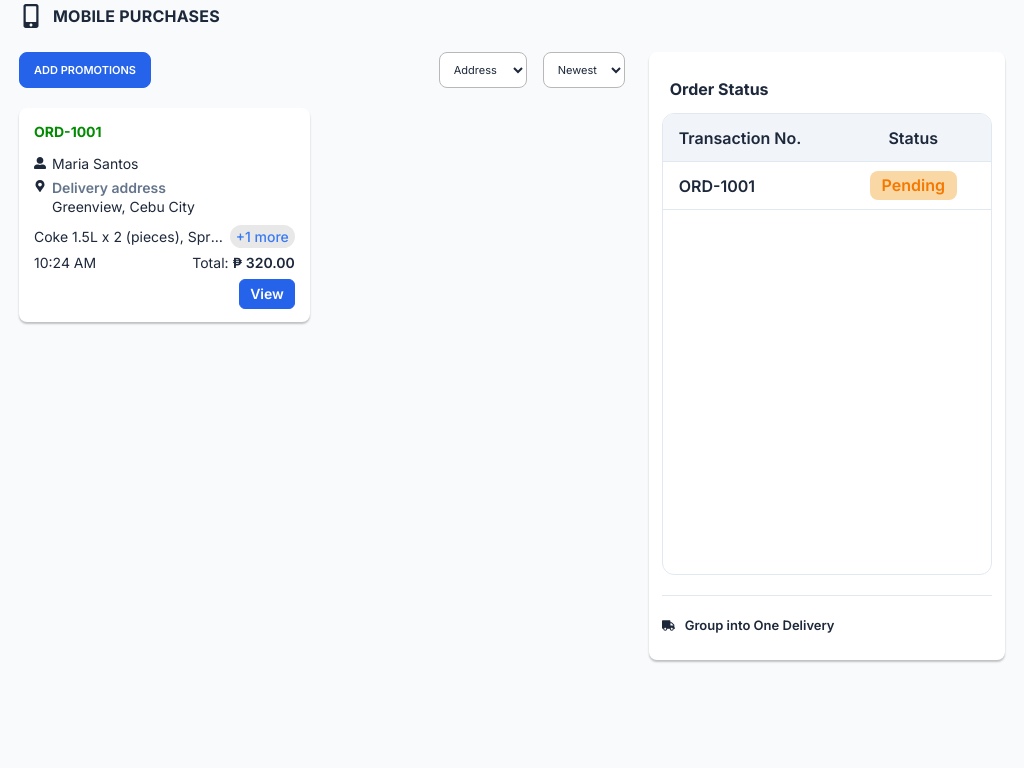
Test case: delivery grouping is in the Order Status panel
Click the button named "Select order ORD-1001": point(164, 215) [20,109,309,320]
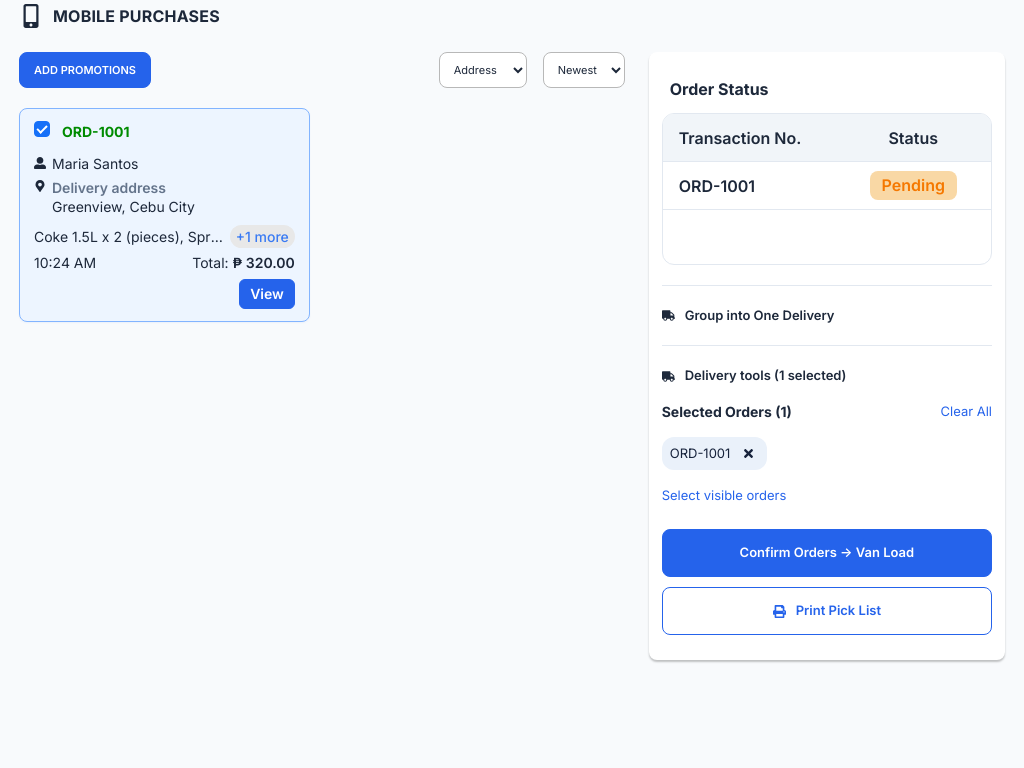
Expected: the table named "Mobile order statuses" is shown, [663,114,991,210]
Expected: the heading "Delivery tools (1 selected)" is shown, [662,367,846,383]
